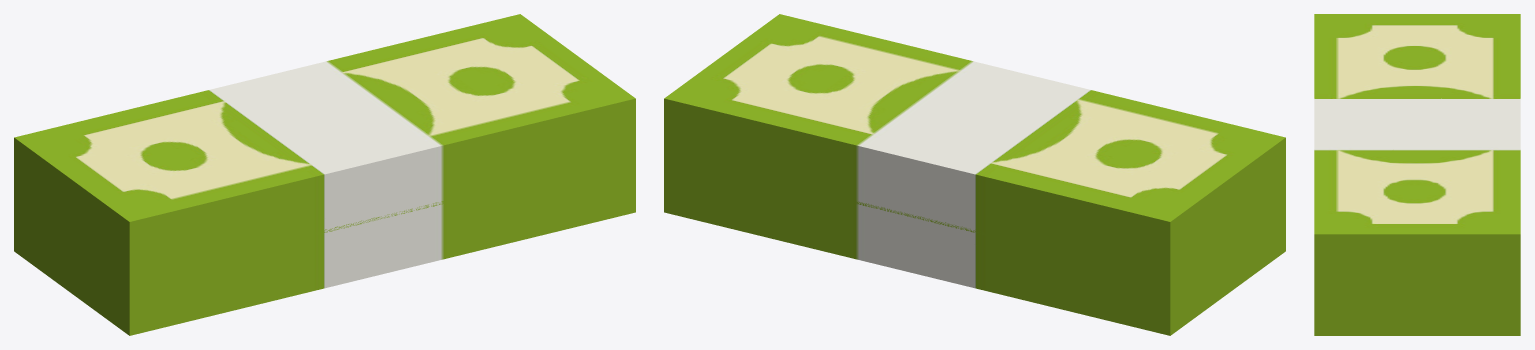
The model's file is Roll of Money.fbx.
The picture shows the model from 3 angles, left to right: view 1: azimuth 30°, elevation 25°; view 2: azimuth 150°, elevation 25°; view 3: azimuth 270°, elevation 25°; orthographic projection. The views are drawn at different scales.
Parts seen in each view (by area): view 1: pCube1, pCube2; view 2: pCube1, pCube2; view 3: pCube1.
Boxes of the visible parts, box(x1,y1,x2,y2) form: pCube1: box(14, 14, 635, 335); pCube2: box(31, 154, 635, 280); pCube1: box(664, 14, 1285, 335); pCube2: box(664, 154, 1261, 280); pCube1: box(1314, 14, 1520, 335).
Bounding box in the file's own units: 4.56 × 0.9813 × 1.8.
2 materials, 2 textured.
